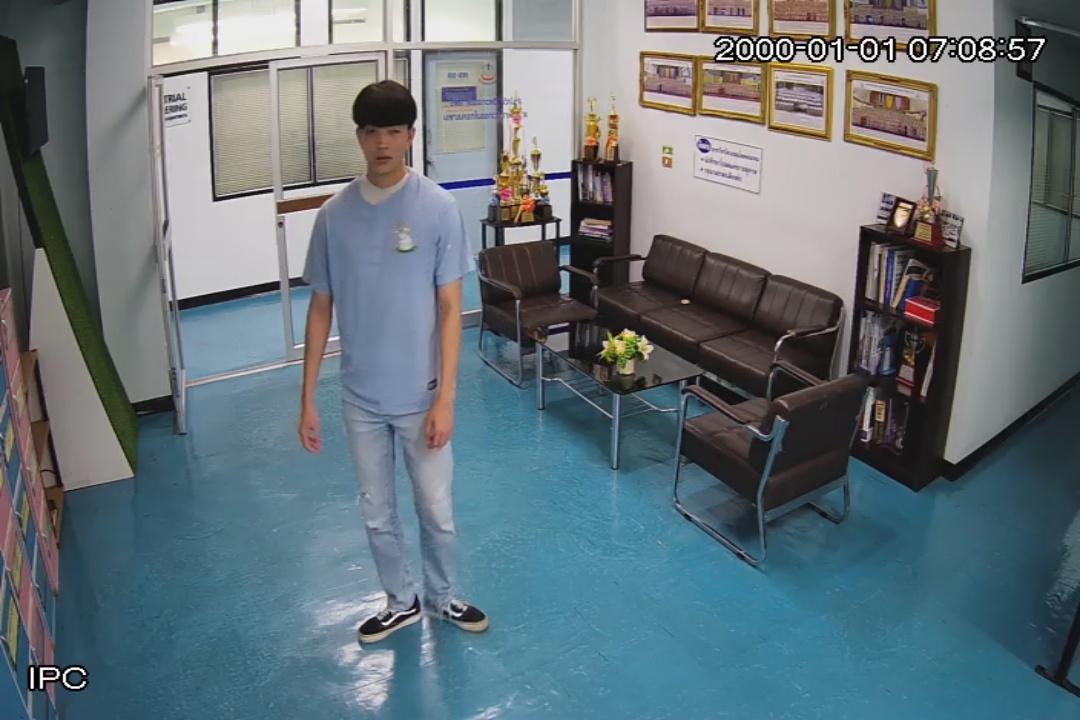normal: (298, 81, 483, 638)
